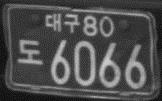0: (74, 39, 96, 86), (99, 15, 114, 38)
6: (99, 42, 121, 88), (124, 43, 146, 89), (50, 40, 70, 84)
8: (83, 15, 98, 36)
대구_O: (44, 12, 80, 34)
도: (16, 39, 44, 65)
